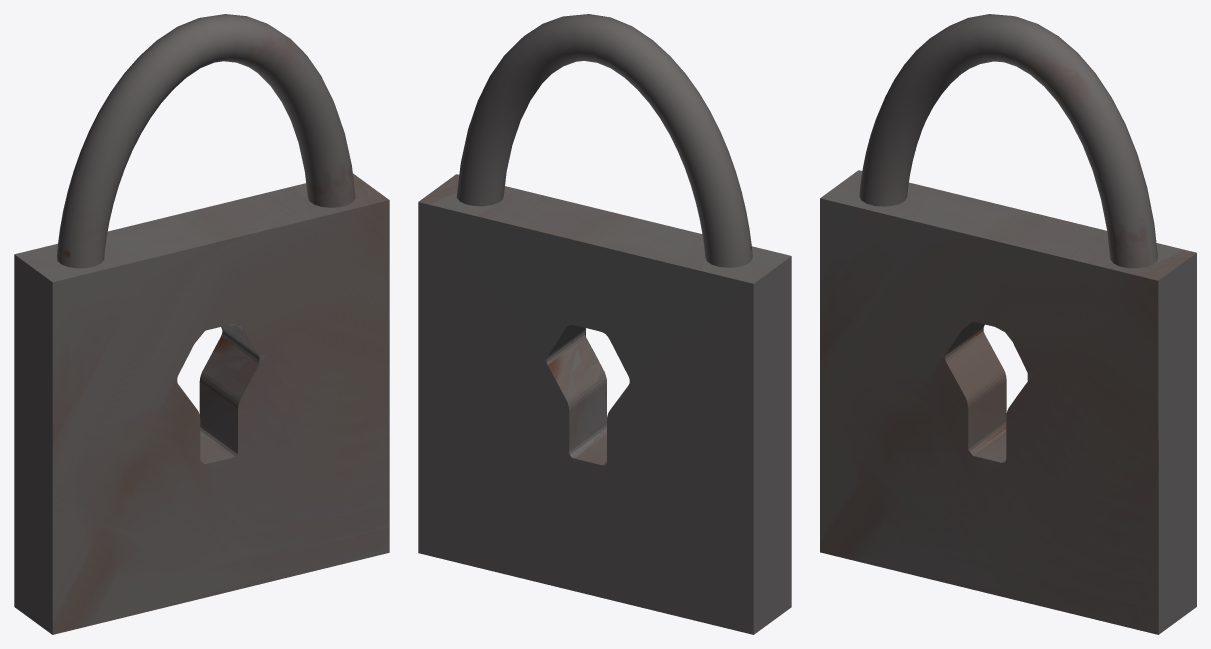
The model's file is Lock.fbx.
3 views of the same model, side by side, from view 1: azimuth 30°, elevation 25°; view 2: azimuth 150°, elevation 25°; view 3: azimuth 330°, elevation 25° (orthographic).
Parts seen in each view (by area): view 1: LowPoly; view 2: LowPoly; view 3: LowPoly.
Part boxes in pixels (left/top/right/bottom): LowPoly: left=14, top=14, right=389, bottom=634; LowPoly: left=418, top=14, right=791, bottom=634; LowPoly: left=820, top=14, right=1196, bottom=634.
Bounding box in the file's own units: 182 × 289 × 35.98.
1 material, 1 textured.
